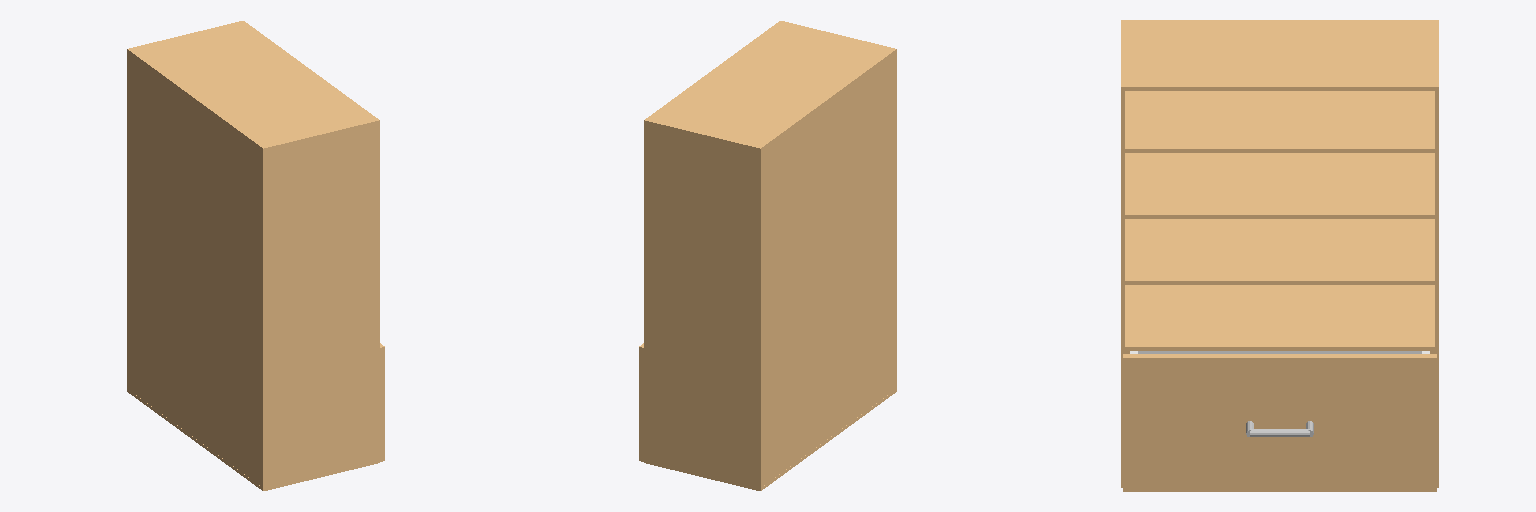
URDF robot description (room610-shelf1-1-robot):
<?xml version="1.0"?>
<robot name="room610-shelf1-1-robot"
       xmlns:xi="http://www.w3.org/2001/XInclude"
       >
  <gazebo>
    <static>false</static>
  </gazebo>
  <link name="ROOT_link">
    <visual>
      <origin xyz="0 0 0" rpy="0 -0 0"/>
      <geometry>
        <mesh filename="model://room610-shelf1-1/meshes/ROOT_link_mesh.dae" scale="1 1 1" />
      </geometry>
    </visual>
    <collision>
      <origin xyz="0 0 0" rpy="0 -0 0"/>
      <geometry>
        <mesh filename="model://room610-shelf1-1/meshes/ROOT_link_mesh.dae" scale="1 1 1" />
      </geometry>
    </collision>
    <inertial>
      <mass value="0.001" />
      <origin xyz="0 0 0" rpy="0 -0 0"/>
      <inertia ixx="1e-03" ixy="0" ixz="0" iyy="1e-03" iyz="0" izz="1e-03"/>
    </inertial>
  </link>
  <gazebo reference="ROOT_link">
    <mu1>0.9</mu1>
    <mu2>0.9</mu2>
  </gazebo>
  <link name="SHELF1-BODYSET6_link">
    <visual>
      <origin xyz="0.0055 0 0.175" rpy="0 -0 0"/>
      <geometry>
        <mesh filename="model://room610-shelf1-1/meshes/SHELF1-BODYSET6_link_mesh.dae" scale="1 1 1" />
      </geometry>
    </visual>
    <collision>
      <origin xyz="0.0055 0 0.175" rpy="0 -0 0"/>
      <geometry>
        <mesh filename="model://room610-shelf1-1/meshes/SHELF1-BODYSET6_link_mesh.dae" scale="1 1 1" />
      </geometry>
    </collision>
    <inertial>
      <mass value="0.001" />
      <origin xyz="0 0 0" rpy="0 -0 0"/>
      <inertia ixx="1e-03" ixy="0" ixz="0" iyy="1e-03" iyz="0" izz="1e-03"/>
    </inertial>
  </link>
  <gazebo reference="SHELF1-BODYSET6_link">
    <mu1>0.9</mu1>
    <mu2>0.9</mu2>
  </gazebo>
  <link name="SHELF1-BODYSET5_link">
    <visual>
      <origin xyz="0.0055 0 0.45625" rpy="0 -0 0"/>
      <geometry>
        <mesh filename="model://room610-shelf1-1/meshes/SHELF1-BODYSET5_link_mesh.dae" scale="1 1 1" />
      </geometry>
    </visual>
    <collision>
      <origin xyz="0.0055 0 0.45625" rpy="0 -0 0"/>
      <geometry>
        <mesh filename="model://room610-shelf1-1/meshes/SHELF1-BODYSET5_link_mesh.dae" scale="1 1 1" />
      </geometry>
    </collision>
    <inertial>
      <mass value="0.001" />
      <origin xyz="0 0 0" rpy="0 -0 0"/>
      <inertia ixx="1e-03" ixy="0" ixz="0" iyy="1e-03" iyz="0" izz="1e-03"/>
    </inertial>
  </link>
  <gazebo reference="SHELF1-BODYSET5_link">
    <mu1>0.9</mu1>
    <mu2>0.9</mu2>
  </gazebo>
  <link name="SHELF1-BODYSET4_link">
    <visual>
      <origin xyz="0.0055 0 0.63875" rpy="0 -0 0"/>
      <geometry>
        <mesh filename="model://room610-shelf1-1/meshes/SHELF1-BODYSET4_link_mesh.dae" scale="1 1 1" />
      </geometry>
    </visual>
    <collision>
      <origin xyz="0.0055 0 0.63875" rpy="0 -0 0"/>
      <geometry>
        <mesh filename="model://room610-shelf1-1/meshes/SHELF1-BODYSET4_link_mesh.dae" scale="1 1 1" />
      </geometry>
    </collision>
    <inertial>
      <mass value="0.001" />
      <origin xyz="0 0 0" rpy="0 -0 0"/>
      <inertia ixx="1e-03" ixy="0" ixz="0" iyy="1e-03" iyz="0" izz="1e-03"/>
    </inertial>
  </link>
  <gazebo reference="SHELF1-BODYSET4_link">
    <mu1>0.9</mu1>
    <mu2>0.9</mu2>
  </gazebo>
  <link name="SHELF1-BODYSET3_link">
    <visual>
      <origin xyz="0.0055 0 0.82125" rpy="0 -0 0"/>
      <geometry>
        <mesh filename="model://room610-shelf1-1/meshes/SHELF1-BODYSET3_link_mesh.dae" scale="1 1 1" />
      </geometry>
    </visual>
    <collision>
      <origin xyz="0.0055 0 0.82125" rpy="0 -0 0"/>
      <geometry>
        <mesh filename="model://room610-shelf1-1/meshes/SHELF1-BODYSET3_link_mesh.dae" scale="1 1 1" />
      </geometry>
    </collision>
    <inertial>
      <mass value="0.001" />
      <origin xyz="0 0 0" rpy="0 -0 0"/>
      <inertia ixx="1e-03" ixy="0" ixz="0" iyy="1e-03" iyz="0" izz="1e-03"/>
    </inertial>
  </link>
  <gazebo reference="SHELF1-BODYSET3_link">
    <mu1>0.9</mu1>
    <mu2>0.9</mu2>
  </gazebo>
  <link name="SHELF1-BODYSET2_link">
    <visual>
      <origin xyz="0.0055 0 1.00375" rpy="0 -0 0"/>
      <geometry>
        <mesh filename="model://room610-shelf1-1/meshes/SHELF1-BODYSET2_link_mesh.dae" scale="1 1 1" />
      </geometry>
    </visual>
    <collision>
      <origin xyz="0.0055 0 1.00375" rpy="0 -0 0"/>
      <geometry>
        <mesh filename="model://room610-shelf1-1/meshes/SHELF1-BODYSET2_link_mesh.dae" scale="1 1 1" />
      </geometry>
    </collision>
    <inertial>
      <mass value="0.001" />
      <origin xyz="0 0 0" rpy="0 -0 0"/>
      <inertia ixx="1e-03" ixy="0" ixz="0" iyy="1e-03" iyz="0" izz="1e-03"/>
    </inertial>
  </link>
  <gazebo reference="SHELF1-BODYSET2_link">
    <mu1>0.9</mu1>
    <mu2>0.9</mu2>
  </gazebo>
  <joint name="DRAWER0" type="prismatic">
    <parent link="ROOT_link"/>
    <child  link="SHELF1-BODYSET6_link"/>
    <origin xyz="0.0055 0 0.175" rpy="0 -0 0 "/>
    <axis   xyz="1 0 0"/>
    <limit lower="0" upper="0.405" effort="100" velocity="0.01" />
    <dynamics damping="0.2" friction="0" />
  </joint>
  <transmission type="pr2_mechanism_model/SimpleTransmission" name="DRAWER0_trans" >
    <actuator name="DRAWER0_motor" />
    <joint name="DRAWER0" />
    <mechanicalReduction>1</mechanicalReduction>
  </transmission>
  <gazebo reference="DRAWER0">
    <cfmDamping>0.4</cfmDamping>
  </gazebo>
  <joint name="DRAWER1" type="prismatic">
    <parent link="ROOT_link"/>
    <child  link="SHELF1-BODYSET5_link"/>
    <origin xyz="0.0055 0 0.45625" rpy="0 -0 0 "/>
    <axis   xyz="1 0 0"/>
    <limit lower="0" upper="0.405" effort="100" velocity="0.01" />
    <dynamics damping="0.2" friction="0" />
  </joint>
  <transmission type="pr2_mechanism_model/SimpleTransmission" name="DRAWER1_trans" >
    <actuator name="DRAWER1_motor" />
    <joint name="DRAWER1" />
    <mechanicalReduction>1</mechanicalReduction>
  </transmission>
  <gazebo reference="DRAWER1">
    <cfmDamping>0.4</cfmDamping>
  </gazebo>
  <joint name="DRAWER2" type="prismatic">
    <parent link="ROOT_link"/>
    <child  link="SHELF1-BODYSET4_link"/>
    <origin xyz="0.0055 0 0.63875" rpy="0 -0 0 "/>
    <axis   xyz="1 0 0"/>
    <limit lower="0" upper="0.405" effort="100" velocity="0.01" />
    <dynamics damping="0.2" friction="0" />
  </joint>
  <transmission type="pr2_mechanism_model/SimpleTransmission" name="DRAWER2_trans" >
    <actuator name="DRAWER2_motor" />
    <joint name="DRAWER2" />
    <mechanicalReduction>1</mechanicalReduction>
  </transmission>
  <gazebo reference="DRAWER2">
    <cfmDamping>0.4</cfmDamping>
  </gazebo>
  <joint name="DRAWER3" type="prismatic">
    <parent link="ROOT_link"/>
    <child  link="SHELF1-BODYSET3_link"/>
    <origin xyz="0.0055 0 0.82125" rpy="0 -0 0 "/>
    <axis   xyz="1 0 0"/>
    <limit lower="0" upper="0.405" effort="100" velocity="0.01" />
    <dynamics damping="0.2" friction="0" />
  </joint>
  <transmission type="pr2_mechanism_model/SimpleTransmission" name="DRAWER3_trans" >
    <actuator name="DRAWER3_motor" />
    <joint name="DRAWER3" />
    <mechanicalReduction>1</mechanicalReduction>
  </transmission>
  <gazebo reference="DRAWER3">
    <cfmDamping>0.4</cfmDamping>
  </gazebo>
  <joint name="DRAWER4" type="prismatic">
    <parent link="ROOT_link"/>
    <child  link="SHELF1-BODYSET2_link"/>
    <origin xyz="0.0055 0 1.00375" rpy="0 -0 0 "/>
    <axis   xyz="1 0 0"/>
    <limit lower="0" upper="0.405" effort="100" velocity="0.01" />
    <dynamics damping="0.2" friction="0" />
  </joint>
  <transmission type="pr2_mechanism_model/SimpleTransmission" name="DRAWER4_trans" >
    <actuator name="DRAWER4_motor" />
    <joint name="DRAWER4" />
    <mechanicalReduction>1</mechanicalReduction>
  </transmission>
  <gazebo reference="DRAWER4">
    <cfmDamping>0.4</cfmDamping>
  </gazebo>
</robot>

--- Facts derived from the render (not from the file) ---
The picture shows the robot from 3 angles, left to right: view 1: azimuth 30°, elevation 25°; view 2: azimuth 150°, elevation 25°; view 3: azimuth 270°, elevation 25°; orthographic projection.
Robot: room610-shelf1-1-robot — 6 links, 5 joints (5 prismatic); root link ROOT_link; default pose: every joint at zero.
Links seen in each view (by area): view 1: ROOT_link, SHELF1-BODYSET6_link; view 2: ROOT_link, SHELF1-BODYSET6_link; view 3: ROOT_link, SHELF1-BODYSET6_link.
Link boxes in pixels (<box>): ROOT_link: <box>127,21,379,490</box>; SHELF1-BODYSET6_link: <box>380,343,384,461</box>; ROOT_link: <box>644,21,896,490</box>; SHELF1-BODYSET6_link: <box>639,343,643,461</box>; ROOT_link: <box>1121,20,1438,487</box>; SHELF1-BODYSET6_link: <box>1123,351,1436,491</box>.
Bounding box of the posed robot: 0.475 × 0.8 × 1.11 m (x, y, z).
Meshes: 6 distinct files referenced, 2 mesh visuals loaded (2 Collada DAE); not drawn: 4 (reference not matched to a file when rendering).